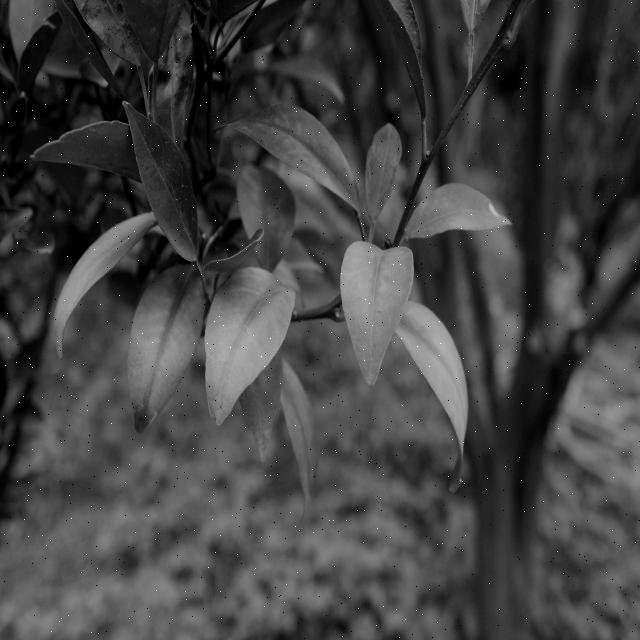greening: (203, 260, 289, 430), (121, 273, 204, 430), (340, 236, 411, 382), (420, 306, 472, 467)
